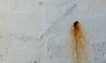Corrosion: (70, 20, 86, 63)
